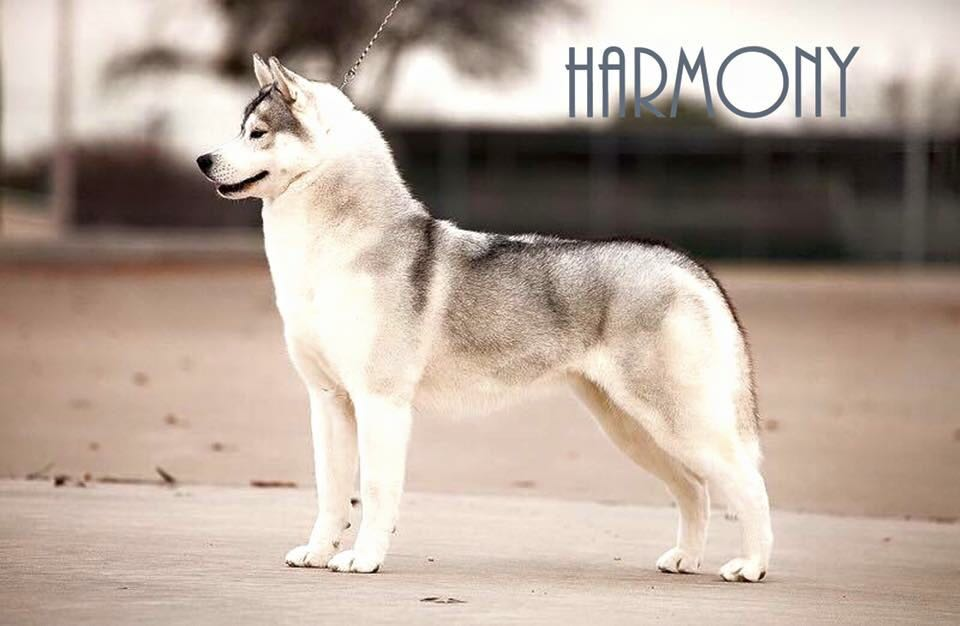husky: (197, 44, 783, 593)
